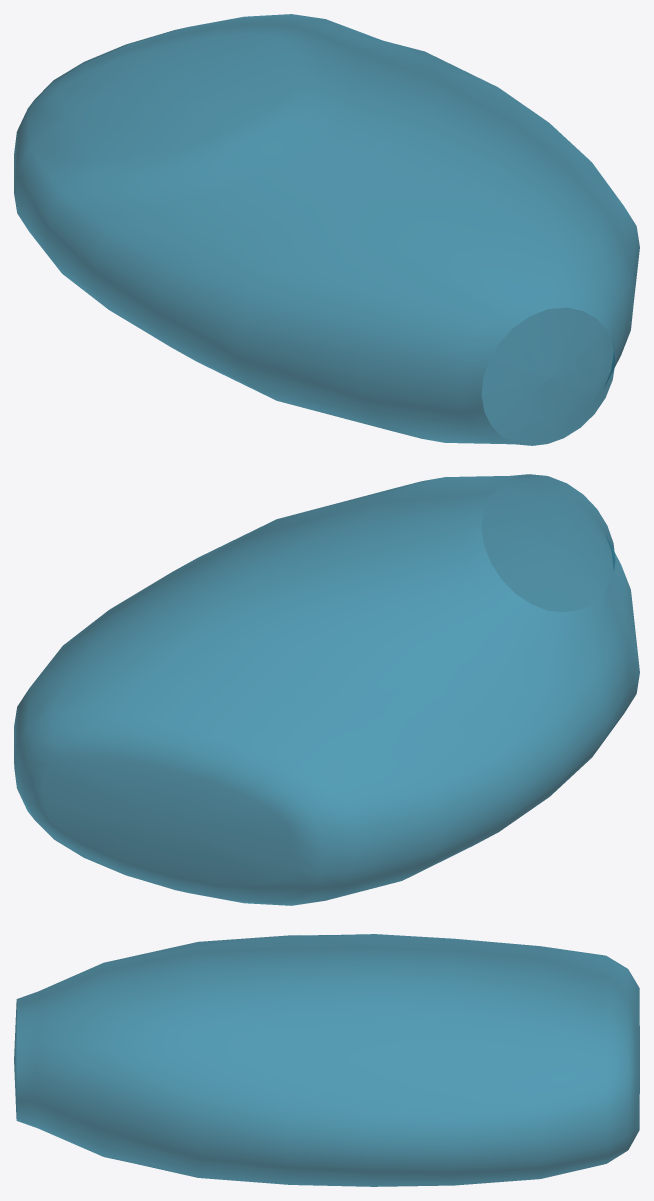
Rendered from MeshSoapBottleVolume_7_1.obj.
3 renders of one model, top to bottom at view 1: azimuth 30°, elevation 25°; view 2: azimuth 150°, elevation 25°; view 3: azimuth 270°, elevation 25°, orthographic. The views are drawn at different scales.
Visible parts, largest first — view 1: SoapBottleVolume_7; view 2: SoapBottleVolume_7; view 3: SoapBottleVolume_7.
Boxes of the visible parts, x1,y1,x2,y2 form: SoapBottleVolume_7: (14, 14, 639, 445); SoapBottleVolume_7: (14, 474, 639, 905); SoapBottleVolume_7: (14, 934, 639, 1186).
Bounding box in the file's own units: 0.1402 × 0.0627 × 0.1967.
